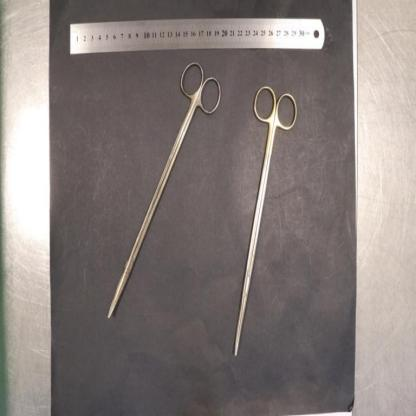7 Metzenbaum Scissors: (235, 84, 300, 358)
9 Metzenbaum Scissors: (108, 61, 221, 321)
